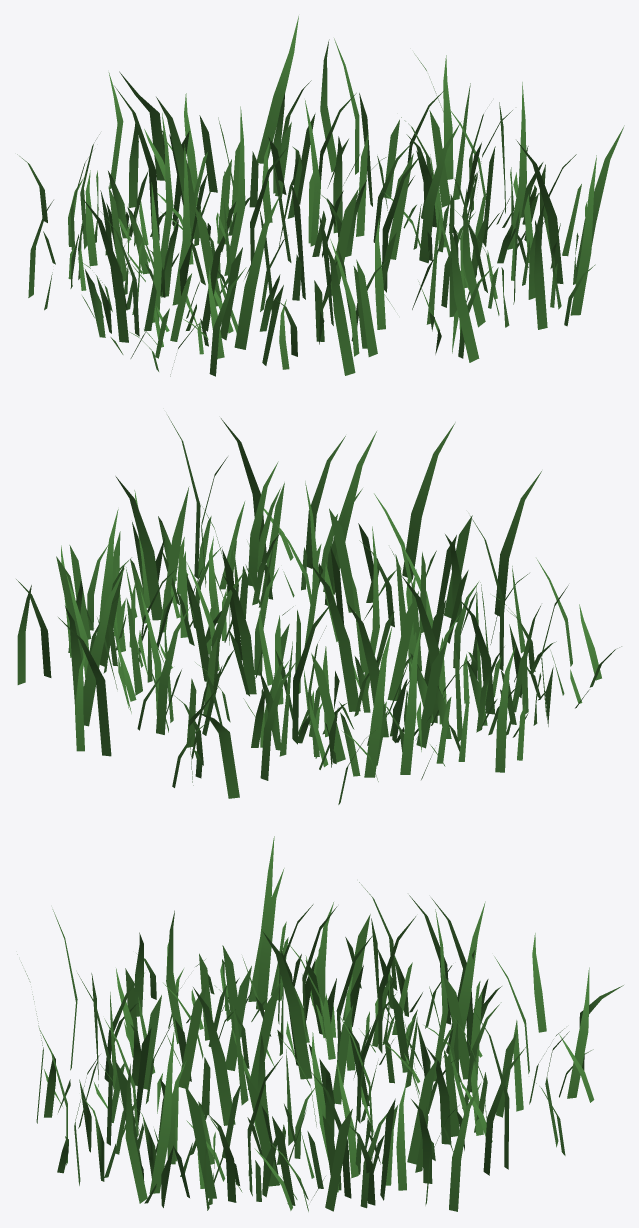
The model's file is grass1.glb.
3 views of the same model, one above another, from view 1: azimuth 30°, elevation 25°; view 2: azimuth 150°, elevation 25°; view 3: azimuth 270°, elevation 25° (orthographic).
Parts seen in each view (by area): view 1: GrassLOD0; view 2: GrassLOD0; view 3: GrassLOD0.
Part boxes in pixels (x1,y1,x2,y2): GrassLOD0: (17,16,624,376); GrassLOD0: (16,415,621,804); GrassLOD0: (17,836,623,1211).
Bounding box in the file's own units: 0.7877 × 0.2494 × 0.8548.
